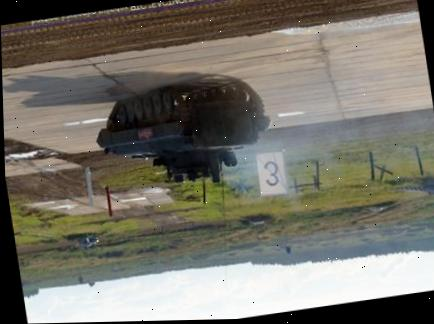tank: (89, 73, 281, 201), (76, 230, 102, 252), (418, 172, 434, 201)
